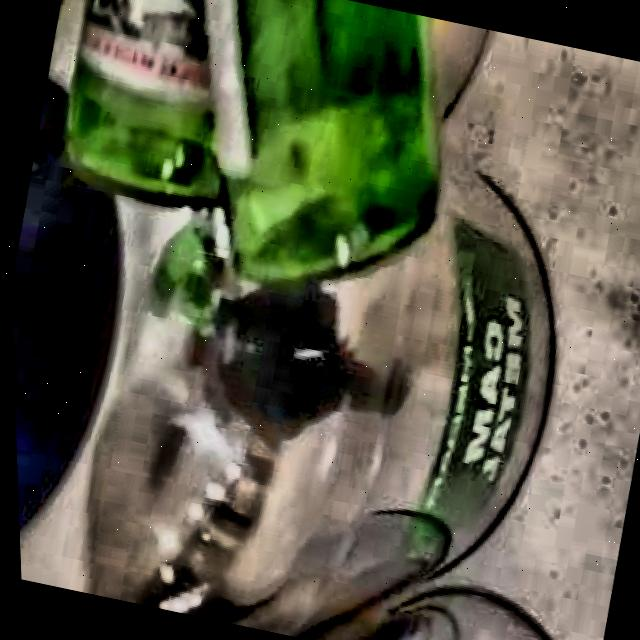plastic: (65, 0, 436, 283)
